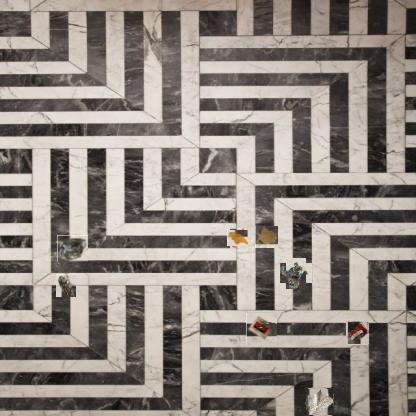dirty: (246, 312, 277, 342), (57, 235, 88, 262), (306, 388, 334, 416), (284, 260, 310, 286), (346, 322, 368, 344), (56, 274, 76, 297)
liquid: (256, 226, 278, 249), (229, 229, 247, 248)
